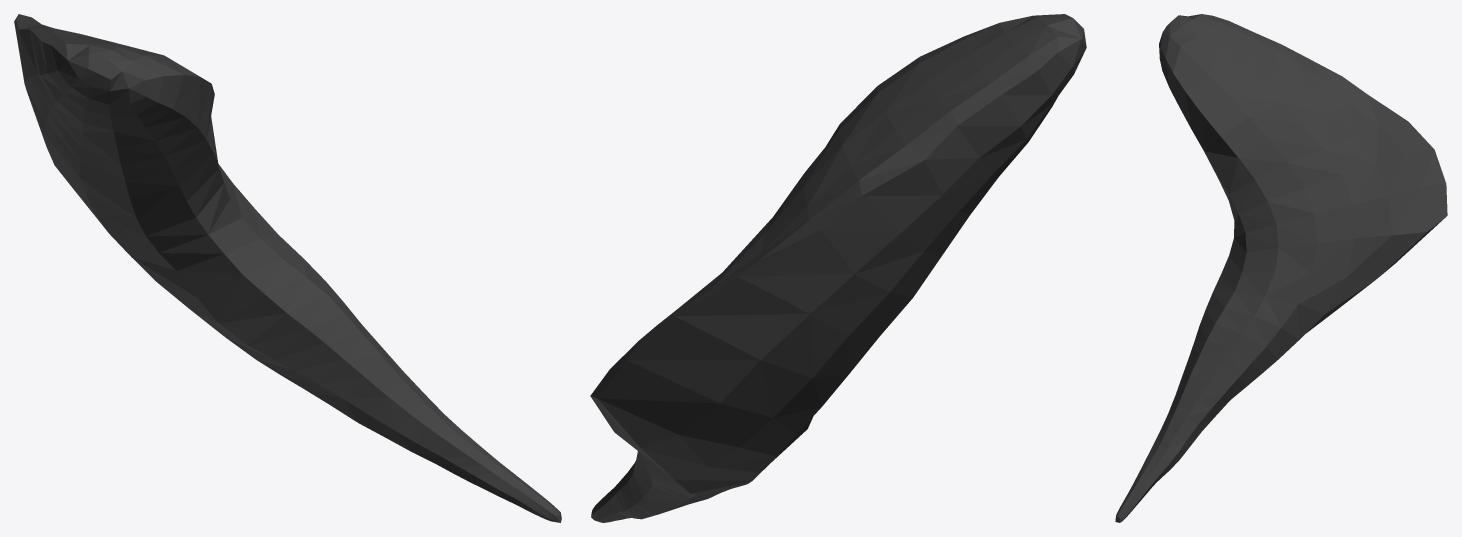
The model's file is Gemellus.glb.
3 renders of one model, left to right at view 1: azimuth 30°, elevation 25°; view 2: azimuth 150°, elevation 25°; view 3: azimuth 270°, elevation 25°, orthographic. The views are drawn at different scales.
Visible parts, largest first — view 1: Gemellus; view 2: Gemellus; view 3: Gemellus.
Boxes of the visible parts, x1,y1,x2,y2 form: Gemellus: (14, 14, 561, 522); Gemellus: (590, 14, 1086, 522); Gemellus: (1115, 14, 1447, 522).
Bounding box in the file's own units: 1.27 × 1.47 × 1.21.
1 material, 1 textured.
